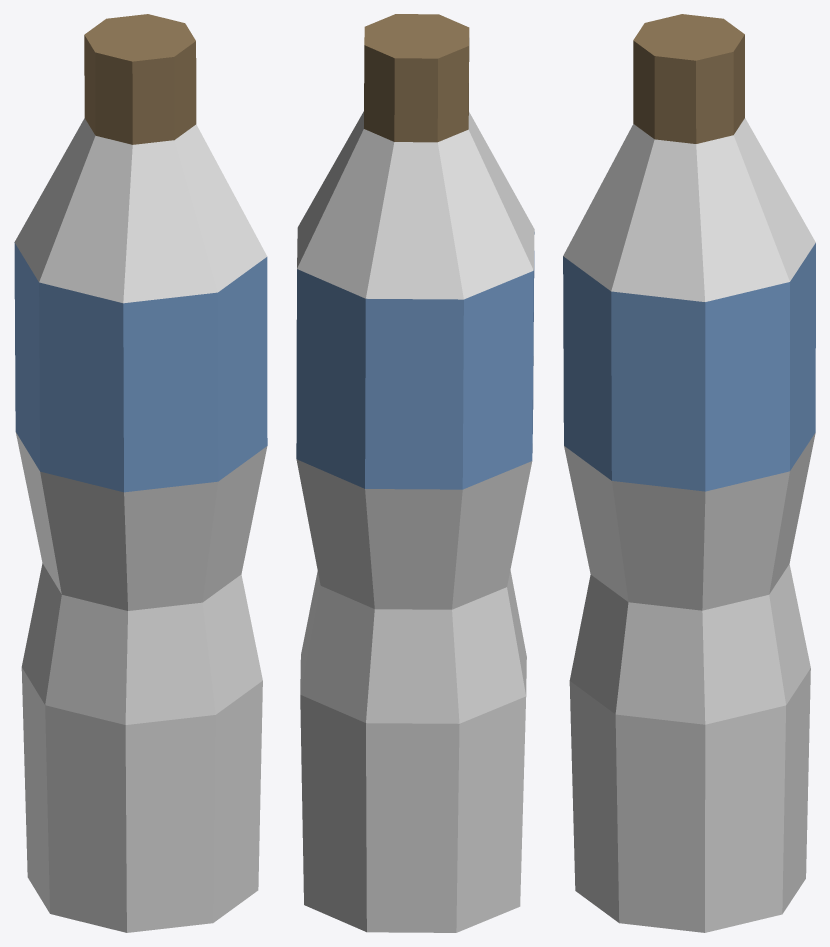
File: TouristGirl_Bottle.fbx
The picture shows the model from 3 angles, left to right: view 1: azimuth 30°, elevation 25°; view 2: azimuth 150°, elevation 25°; view 3: azimuth 270°, elevation 25°; orthographic projection.
Visible parts, largest first — view 1: TouristGirl_Bottle; view 2: TouristGirl_Bottle; view 3: TouristGirl_Bottle.
Part boxes in pixels (<box>): TouristGirl_Bottle: <box>14,14,267,932</box>; TouristGirl_Bottle: <box>296,14,534,932</box>; TouristGirl_Bottle: <box>563,14,815,932</box>.
Size of the model in its own units: 6.89 by 25.39 by 6.87.
